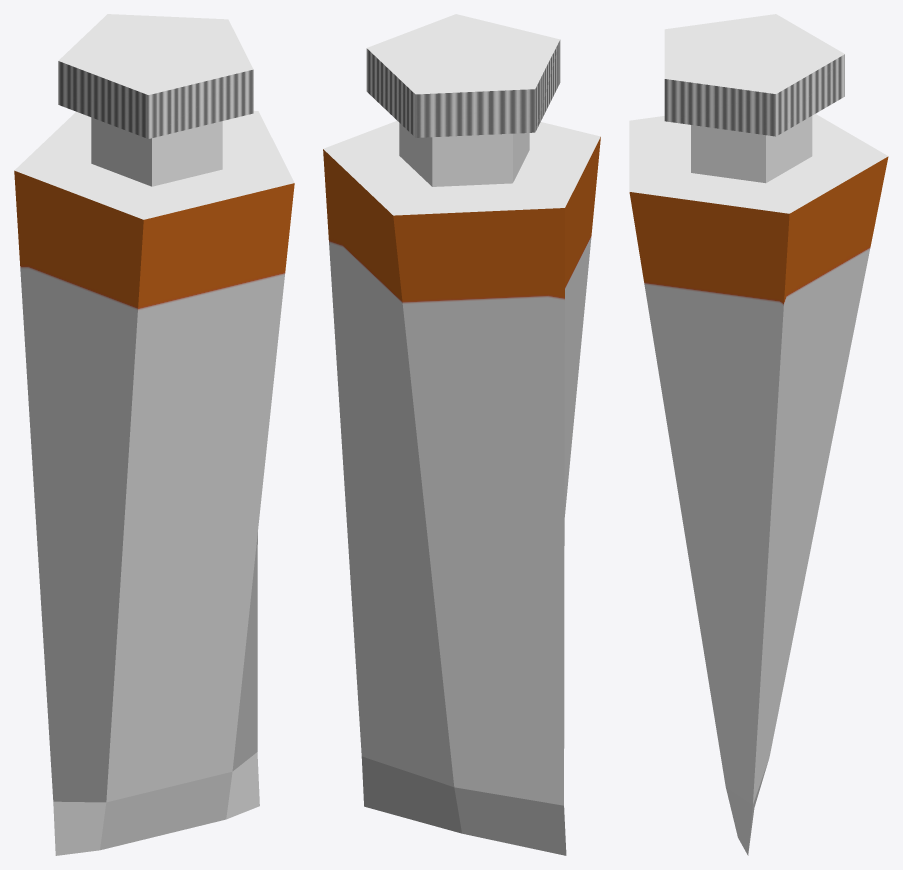
File: dyestuffs_Orenge.fbx
The picture shows the model from 3 angles, left to right: view 1: azimuth 30°, elevation 25°; view 2: azimuth 150°, elevation 25°; view 3: azimuth 270°, elevation 25°; orthographic projection. The views are drawn at different scales.
Parts seen in each view (by area): view 1: Cylinder002; view 2: Cylinder002; view 3: Cylinder002.
Boxes of the visible parts, left/top/right/bottom form: Cylinder002: left=14, top=14, right=294, bottom=855; Cylinder002: left=323, top=14, right=600, bottom=855; Cylinder002: left=629, top=14, right=888, bottom=855.
Bounding box in the file's own units: 0.8103 × 2.47 × 0.7707.
1 material, 1 textured.
